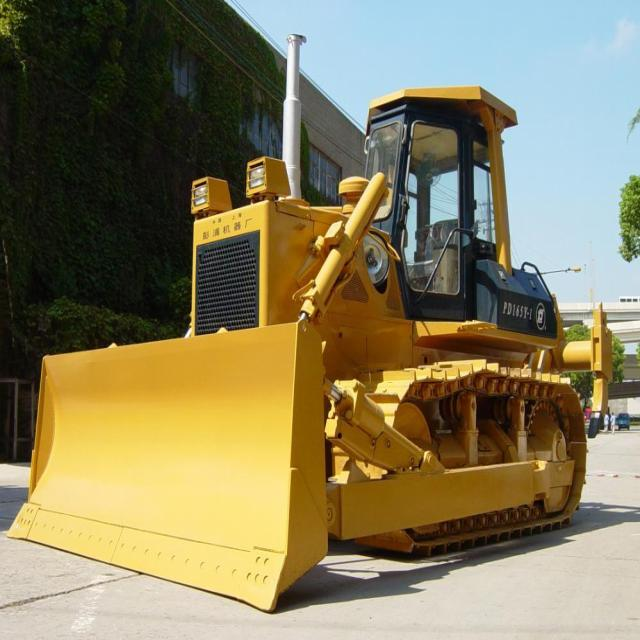Bulldozer: (19, 71, 608, 613)
